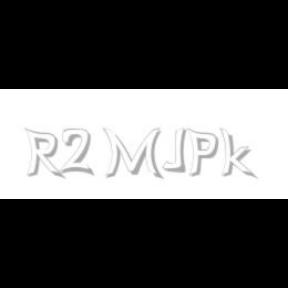2: (58, 128, 92, 176)
J: (162, 128, 186, 172)
M: (102, 128, 162, 180)
P: (187, 128, 219, 178)
R: (24, 128, 62, 180)
k: (219, 128, 257, 180)
